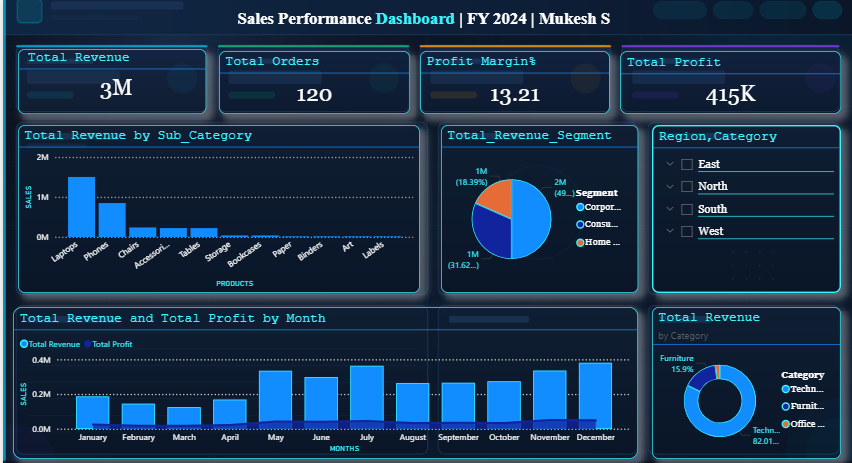

The page's visual inventory and layout, read from the dashboard file:
{"tool":"powerbi","page":{"name":"Page 1","canvas":[1280,720],"ordinal":0},"visuals":[{"type":"card","title":"Total Profit","fields":{"Values":["sales_data_clean.Total Profit"]},"box":[881.4,74.3,315.7,90],"z":0},{"type":"card","title":"Profit Margin%","fields":{"Values":["sales_data_clean.Profit Margin %"]},"box":[595.7,74.3,271.4,90],"z":1000},{"type":"card","title":"Total Orders","fields":{"Values":["sales_data_clean.Total Orders"]},"box":[308.6,74.3,272.9,90],"z":2000},{"type":"lineStackedColumnComboChart","fields":{"Y":["sales_data_clean.Total Revenue"],"Y2":["sales_data_clean.Total Profit"],"Category":["sales_data_clean.Order_Date.Variation.Date Hierarchy.Year","sales_data_clean.Order_Date.Variation.Date Hierarchy.Quarter","sales_data_clean.Order_Date.Variation.Date Hierarchy.Month"]},"box":[14.3,440,892.9,217.1],"z":3000},{"type":"donutChart","fields":{"Category":["sales_data_clean.Category"],"Y":["sales_data_clean.Total Revenue"]},"box":[927.1,440,270,217.1],"z":4000},{"type":"pieChart","title":"Total_Revenue_Segment","fields":{"Category":["sales_data_clean.Segment"],"Y":["sales_data_clean.Total Revenue"]},"box":[625,180,281.7,240],"z":5000},{"type":"slicer","title":"Region,Category","fields":{"Values":["sales_data_clean.Region","sales_data_clean.Category"]},"box":[927.1,180,270,240],"z":6000},{"type":"textbox","box":[330,10,664.3,47.1],"z":7000},{"type":"card","title":"Total Revenue","fields":{"Values":["sales_data_clean.Total Revenue"]},"box":[21,71.4,268.6,92.9],"z":8000},{"type":"clusteredColumnChart","fields":{"Category":["sales_data_clean.Sub_Category"],"Y":["sales_data_clean.Total Revenue"]},"box":[21.4,180,574.3,240],"z":9000}]}

Visuals, with their boxes in screenshot pixels (x1, y1, x2, y2):
"Total Profit" card: (549, 56, 749, 113)
"Profit Margin%" card: (367, 56, 540, 113)
"Total Orders" card: (185, 56, 358, 113)
lineStackedColumnComboChart - sales_data_clean.Total Revenue x sales_data_clean.Total Profit: (0, 288, 565, 426)
donutChart - sales_data_clean.Category x sales_data_clean.Total Revenue: (578, 288, 749, 426)
"Total_Revenue_Segment" pieChart: (386, 123, 565, 276)
"Region,Category" slicer: (578, 123, 749, 276)
textbox: (199, 15, 620, 45)
"Total Revenue" card: (2, 54, 173, 113)
clusteredColumnChart - sales_data_clean.Sub_Category x sales_data_clean.Total Revenue: (3, 123, 367, 276)
